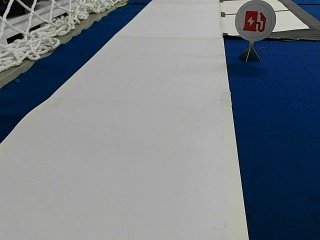battery: (234, 0, 276, 40)
